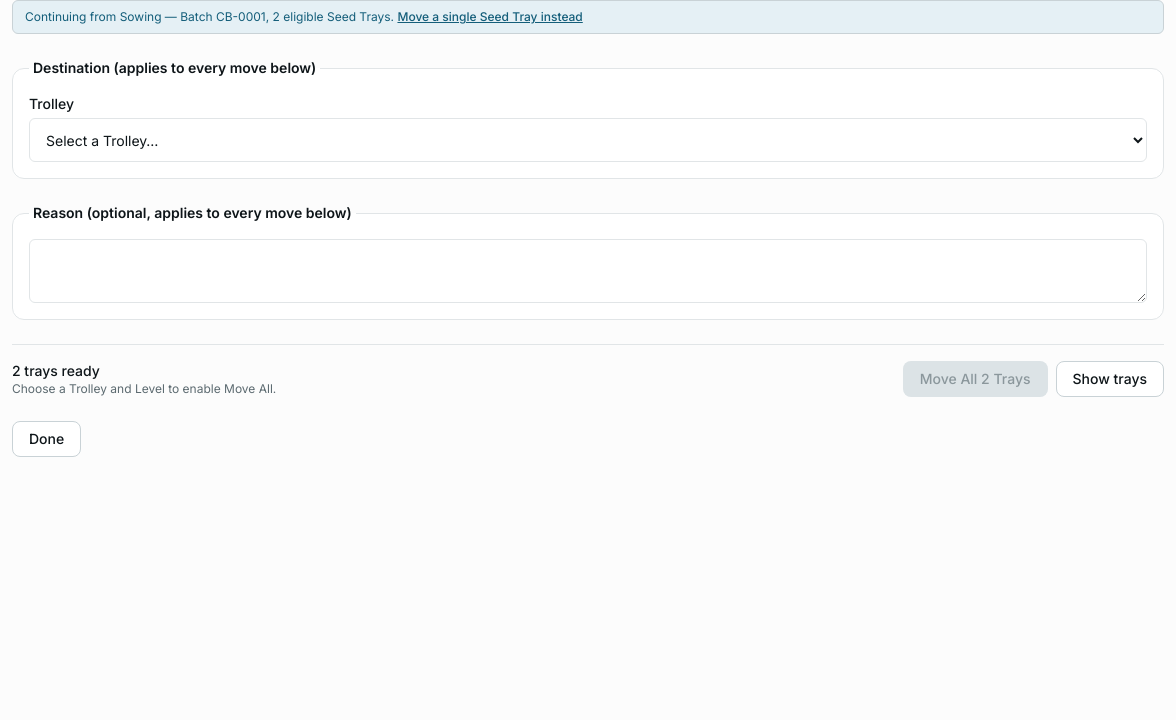
Scenario: MoveTrayForm › PILOT-UX-001: Move All stops at the first failure and reports truthful partial completion, never pretending a rollback
Expected: the text "2 trays ready" is shown, [12, 362, 100, 379]
Select "GT-01 — GC-01 (5 of 6 free)" in the dropdown labelled "Trolley": x=588, y=140 [29, 118, 1147, 162]
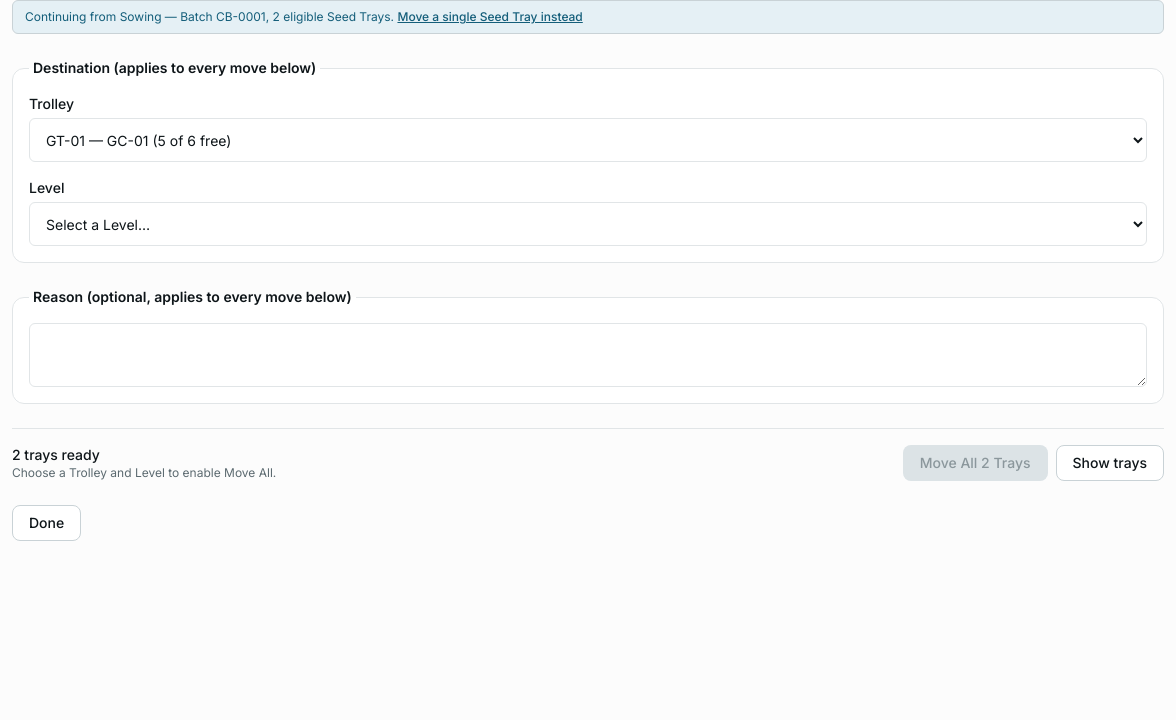
Select "GT-01-L01 (3 of 4 free)" in the dropdown labelled "Level": x=588, y=224 [29, 202, 1147, 246]
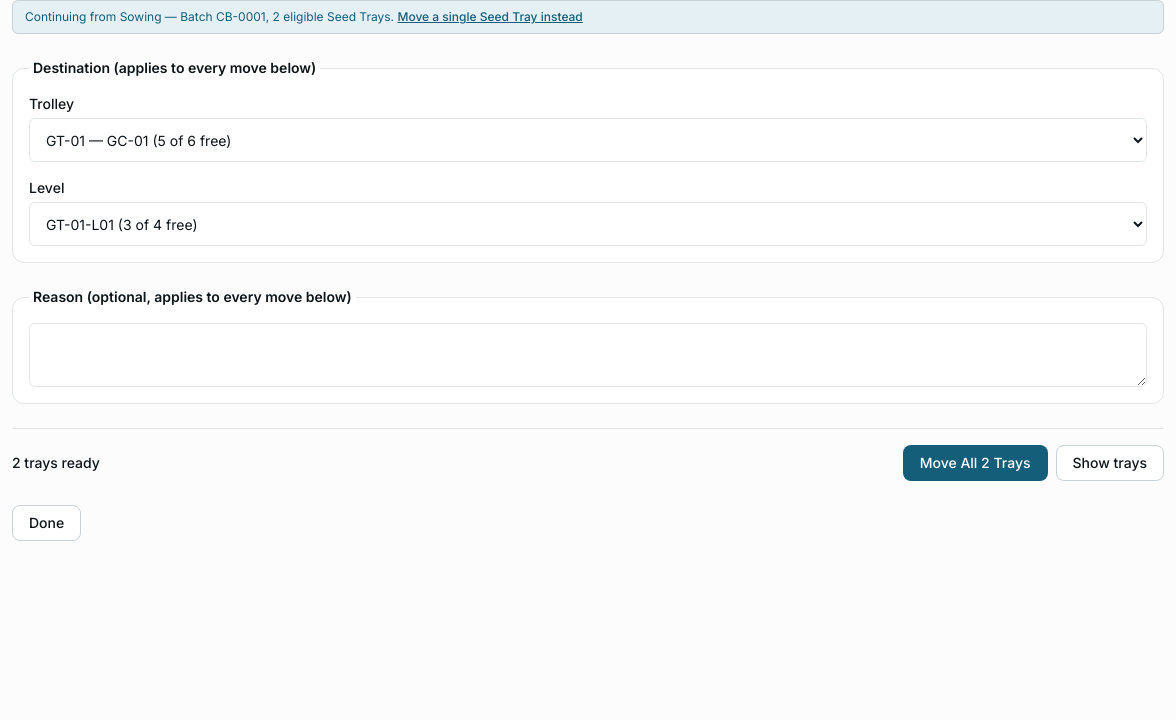
Click the button "Move All 2 Trays": x=975, y=463 [903, 445, 1048, 481]
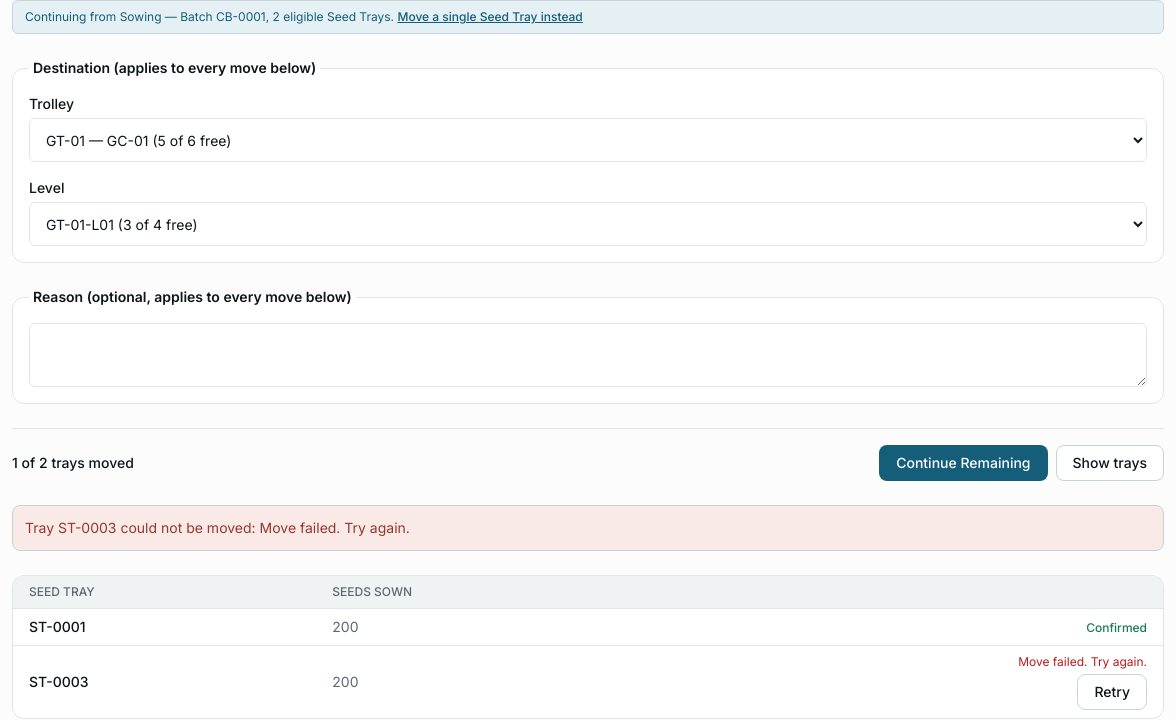
Now the text "1 of 2 trays moved" is shown, box [12, 453, 134, 473]
Now the text "Confirmed" is shown, box [1086, 620, 1147, 635]
Now the text "Tray ST-0003 could not be moved: Move failed. Try again." is shown, box [25, 519, 410, 536]
